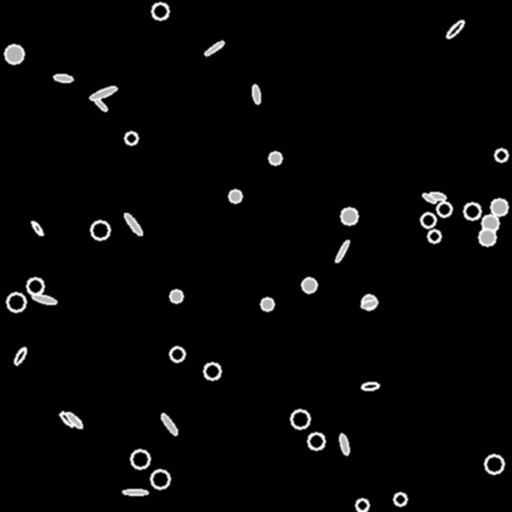pseudomonas: (122, 211, 144, 237), (159, 412, 179, 436), (88, 85, 118, 101), (445, 19, 465, 39), (203, 39, 225, 57), (334, 239, 350, 263), (64, 411, 84, 429), (58, 410, 76, 428), (12, 346, 28, 366), (32, 293, 56, 305), (92, 96, 108, 112), (30, 220, 44, 236), (339, 433, 349, 455), (360, 298, 378, 310), (421, 192, 437, 204), (428, 191, 446, 201), (361, 381, 379, 391), (54, 74, 72, 82), (123, 489, 147, 495), (252, 85, 260, 103)
synechocystis: (485, 455, 503, 473), (91, 221, 109, 239), (7, 293, 25, 311), (131, 450, 149, 468), (291, 410, 309, 428), (5, 45, 23, 63), (151, 470, 169, 488), (308, 433, 324, 449), (482, 215, 498, 231), (464, 203, 480, 219), (152, 3, 168, 19), (341, 208, 357, 224), (479, 229, 495, 245), (491, 199, 507, 215), (27, 278, 43, 294), (204, 363, 220, 379), (302, 278, 316, 292), (421, 213, 435, 227), (437, 202, 451, 216), (362, 295, 376, 309), (170, 347, 184, 361), (356, 499, 368, 511), (394, 493, 406, 505), (269, 152, 281, 164), (229, 190, 241, 202), (261, 298, 273, 310), (125, 132, 137, 144), (170, 290, 182, 302), (428, 230, 440, 242), (495, 149, 507, 161)
